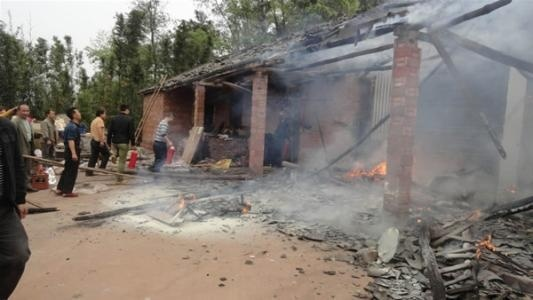fire: (344, 158, 388, 179), (473, 233, 497, 256)
